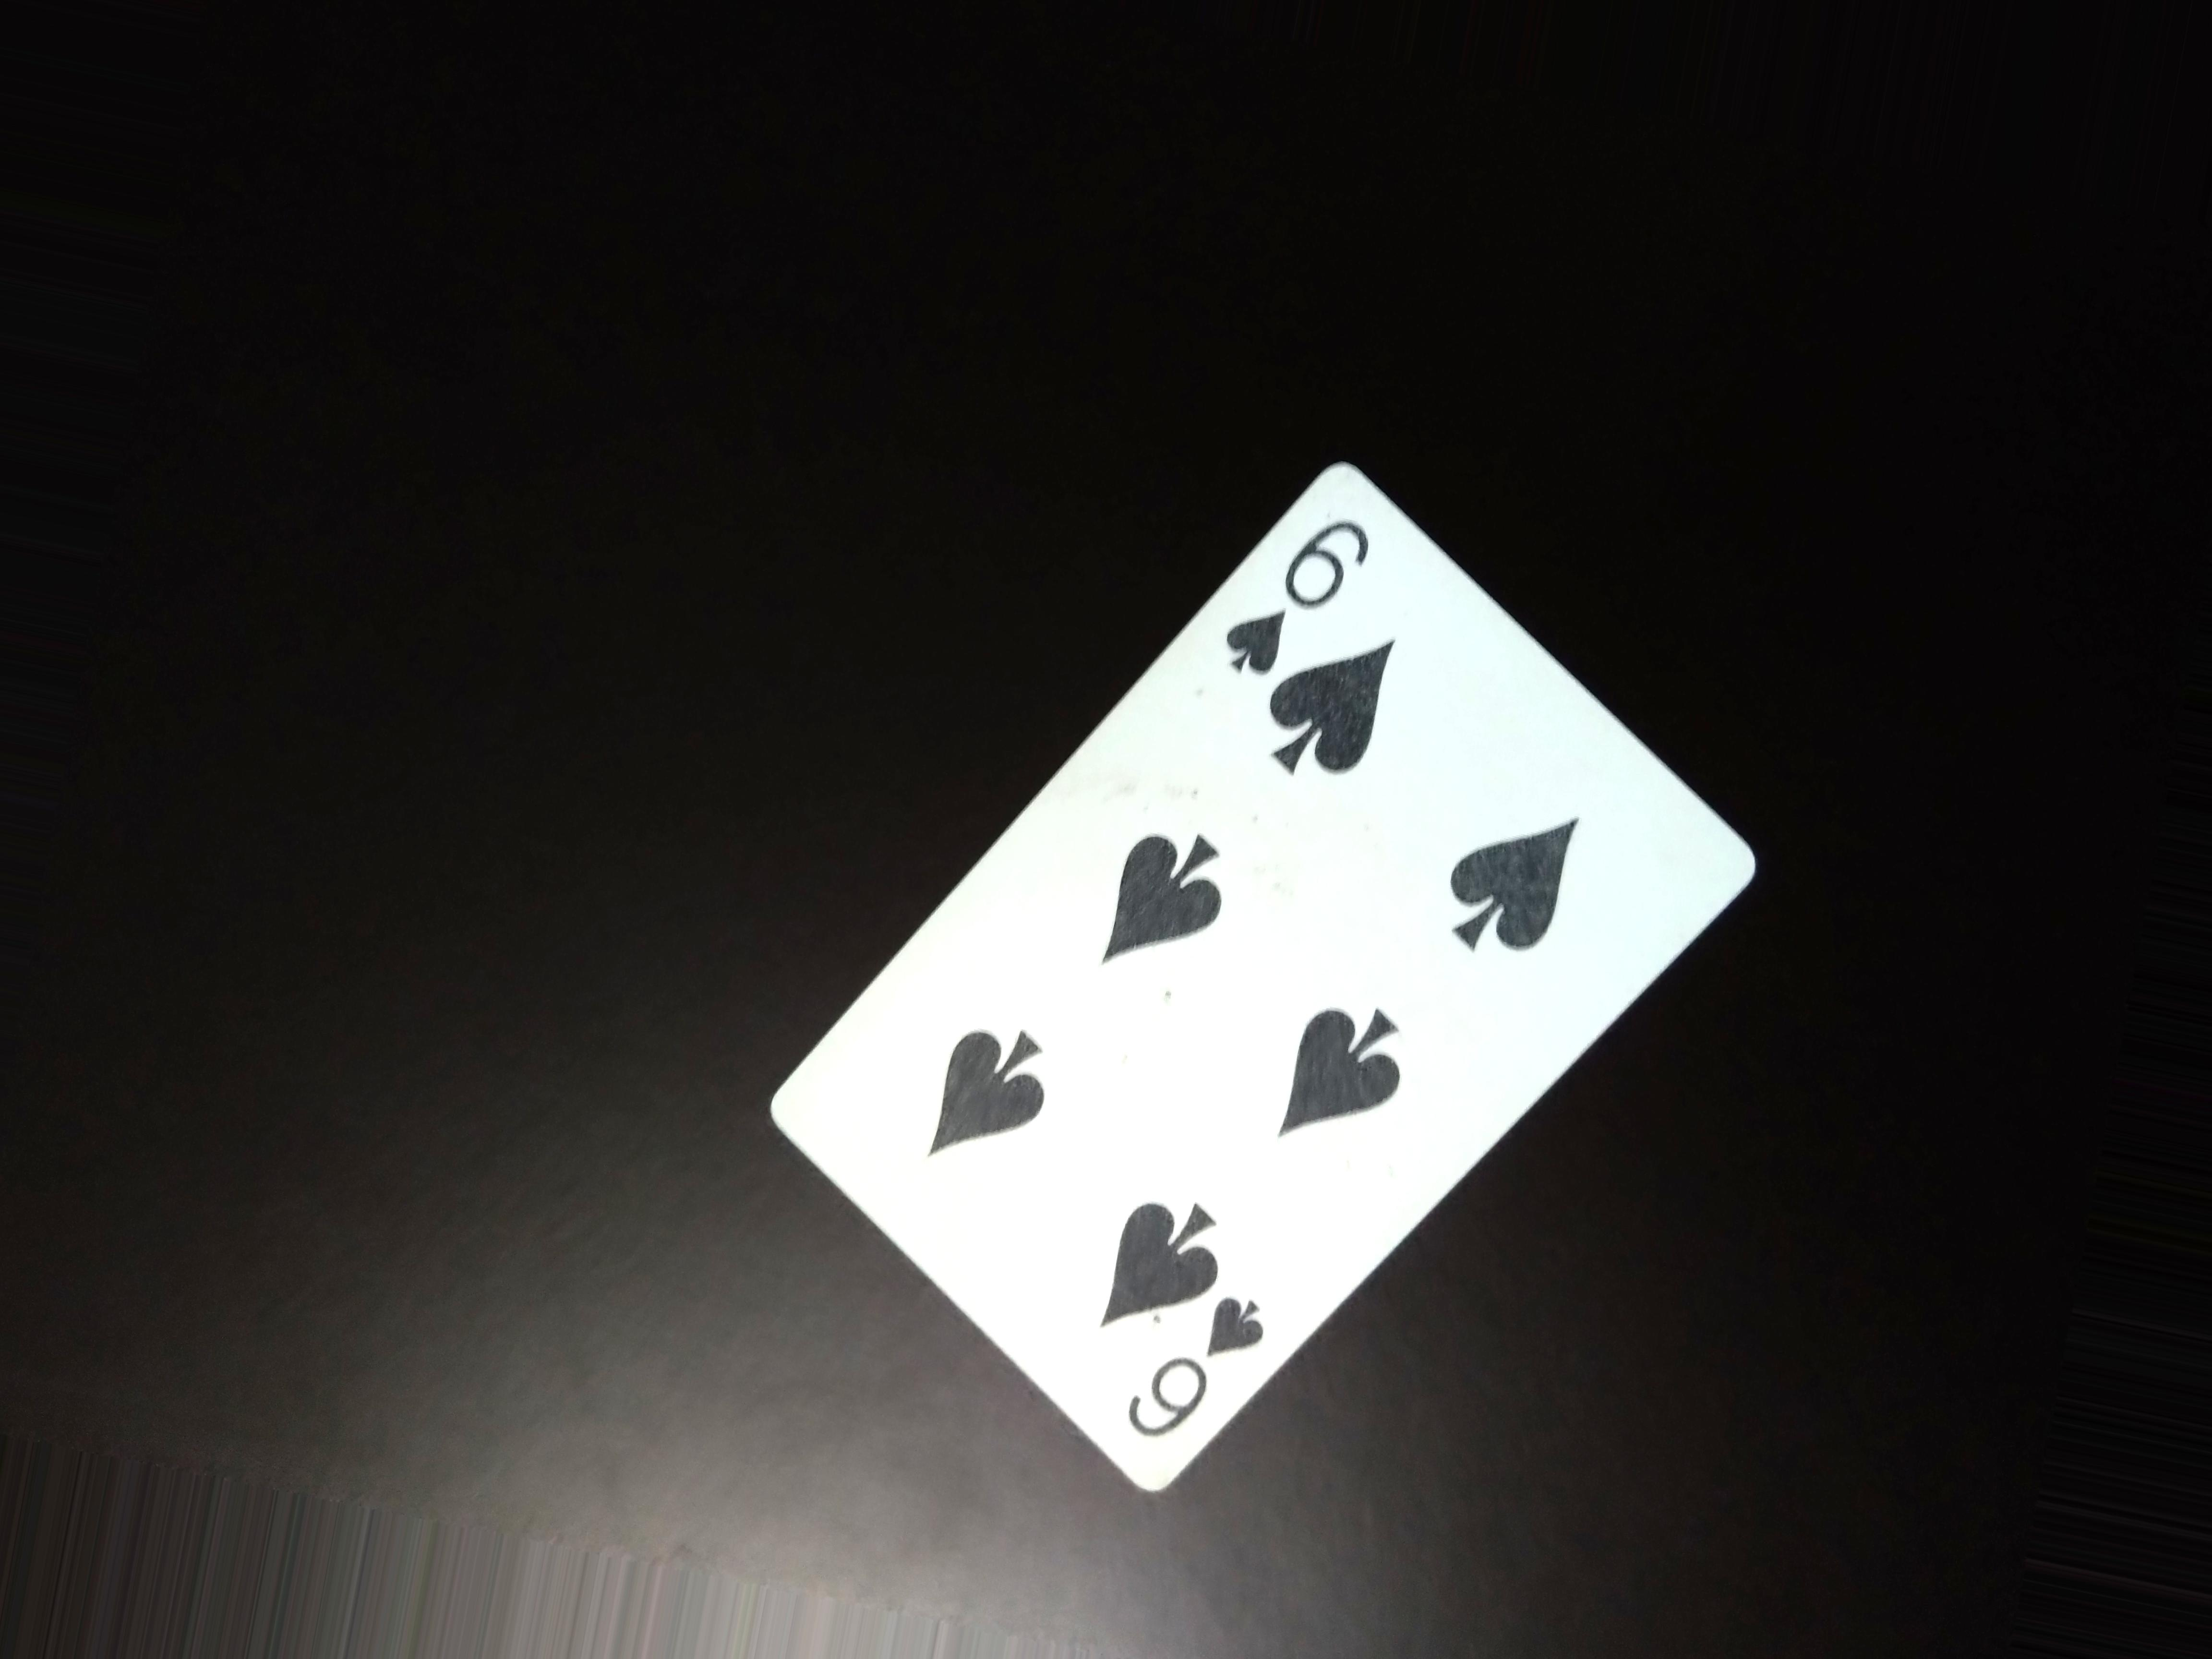6S: (1226, 484, 1374, 701)
